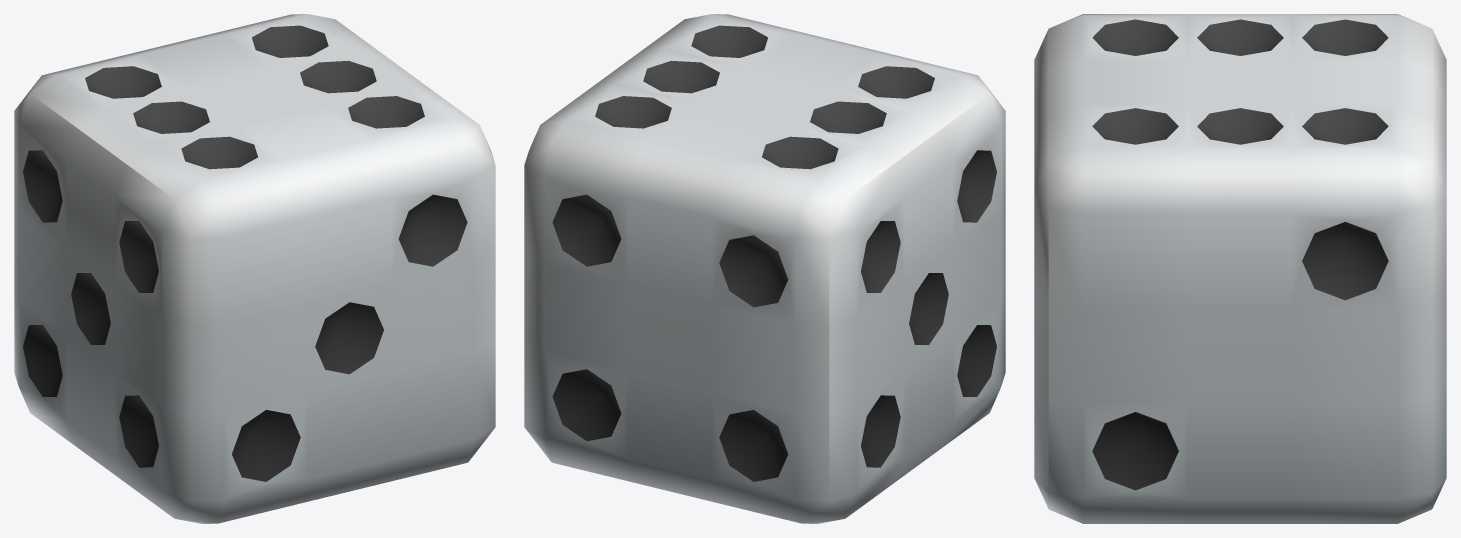
File: KFB_BGB_D6_A.r1.glb
3 views of the same model, side by side, from view 1: azimuth 30°, elevation 25°; view 2: azimuth 150°, elevation 25°; view 3: azimuth 270°, elevation 25° (orthographic). The views are drawn at different scales.
Visible parts, largest first — view 1: KFB_BGB_D6_A; view 2: KFB_BGB_D6_A; view 3: KFB_BGB_D6_A.
Part boxes in pixels (<box>): KFB_BGB_D6_A: <box>14,14,495,523</box>; KFB_BGB_D6_A: <box>524,14,1005,523</box>; KFB_BGB_D6_A: <box>1034,14,1446,523</box>.
Size of the model in its own units: 2.92 by 2.92 by 2.92.
1 material, 1 textured.
